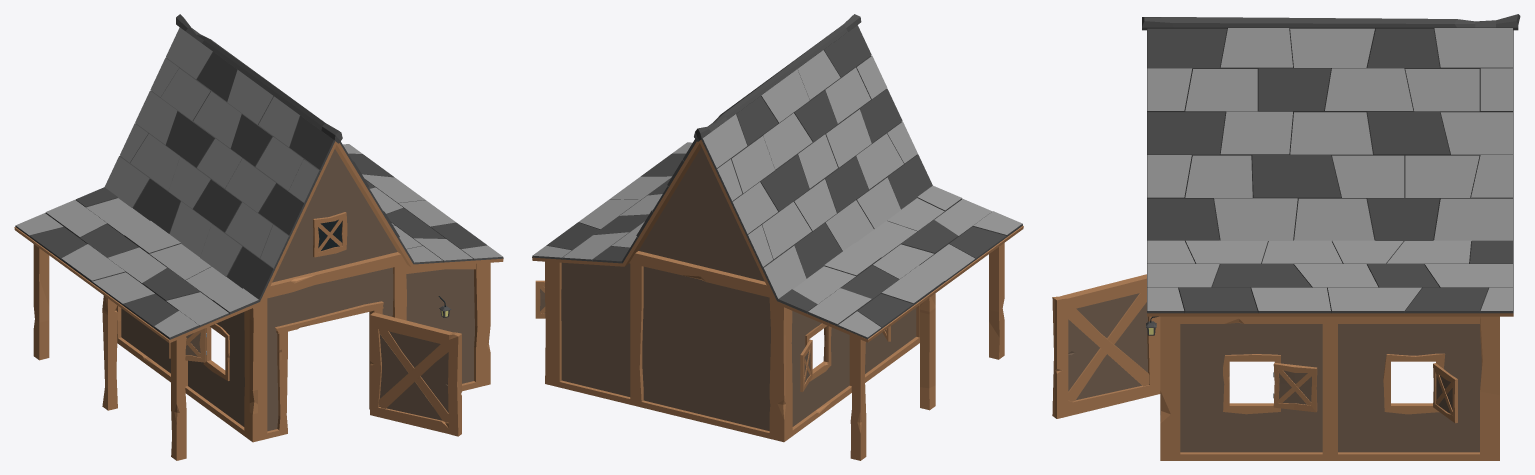
The model's file is Building_Farm.fbx.
3 renders of one model, left to right at view 1: azimuth 30°, elevation 25°; view 2: azimuth 150°, elevation 25°; view 3: azimuth 270°, elevation 25°, orthographic. The views are drawn at different scales.
Visible parts, largest first — view 1: Building_Farm; view 2: Building_Farm; view 3: Building_Farm.
Part boxes in pixels (x1,y1,x2,y2): Building_Farm: [14, 14, 503, 460]; Building_Farm: [532, 14, 1023, 460]; Building_Farm: [1052, 14, 1520, 460].
Bounding box in the file's own units: 1166 × 1120 × 936.
